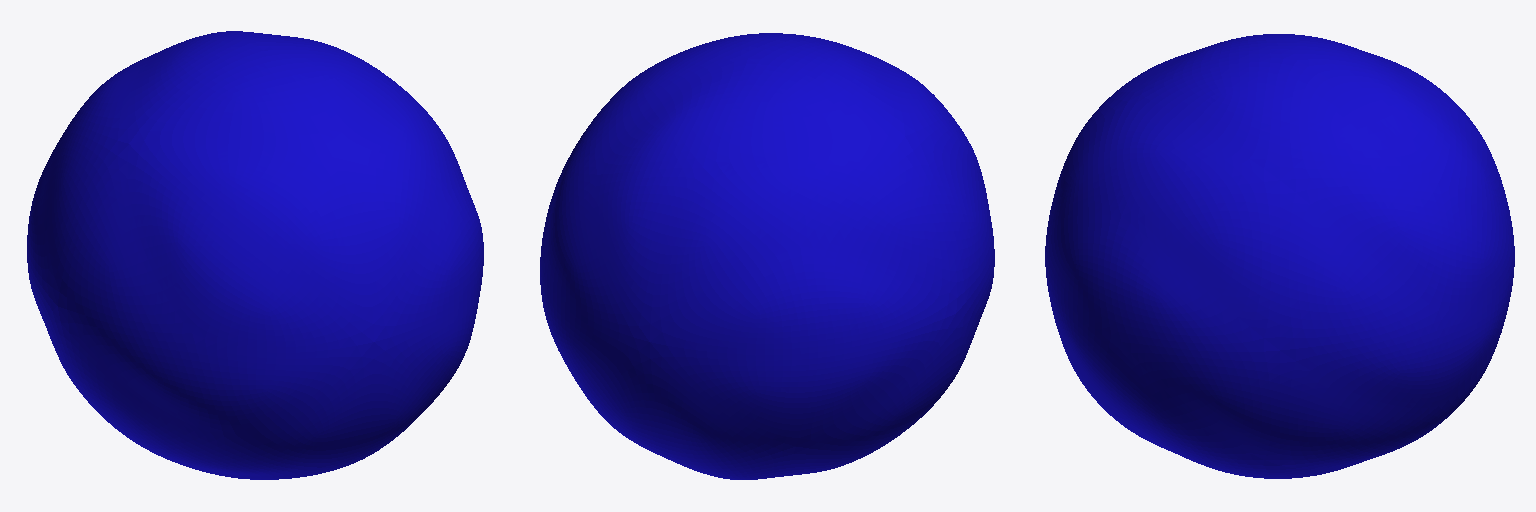
The model's file is underball.obj.
3 renders of one model, left to right at view 1: azimuth 30°, elevation 25°; view 2: azimuth 150°, elevation 25°; view 3: azimuth 270°, elevation 25°, orthographic.
Visible parts, largest first — view 1: 球体.001; view 2: 球体.001; view 3: 球体.001.
Part boxes in pixels (left/top/right/bottom): 球体.001: left=27, top=31, right=483, bottom=479; 球体.001: left=540, top=33, right=994, bottom=479; 球体.001: left=1045, top=34, right=1514, bottom=478.
Bounding box in the file's own units: 3.4 × 3.39 × 3.58.